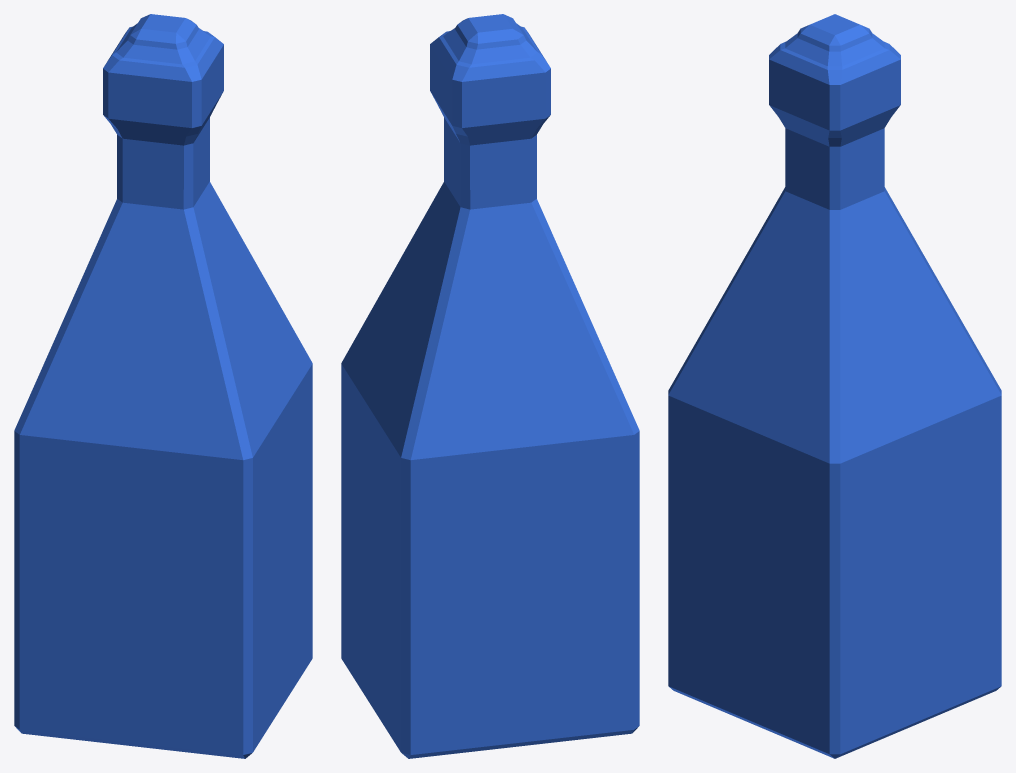
Rendered from Potion3.fbx.
The picture shows the model from 3 angles, left to right: view 1: azimuth 30°, elevation 25°; view 2: azimuth 150°, elevation 25°; view 3: azimuth 270°, elevation 25°; orthographic projection.
Visible parts, largest first — view 1: Potion3; view 2: Potion3; view 3: Potion3.
Boxes of the visible parts, x1,y1,x2,y2 form: Potion3: [14, 14, 312, 758]; Potion3: [341, 14, 639, 758]; Potion3: [668, 14, 1001, 758].
Size of the model in its own units: 194 by 427 by 194.
